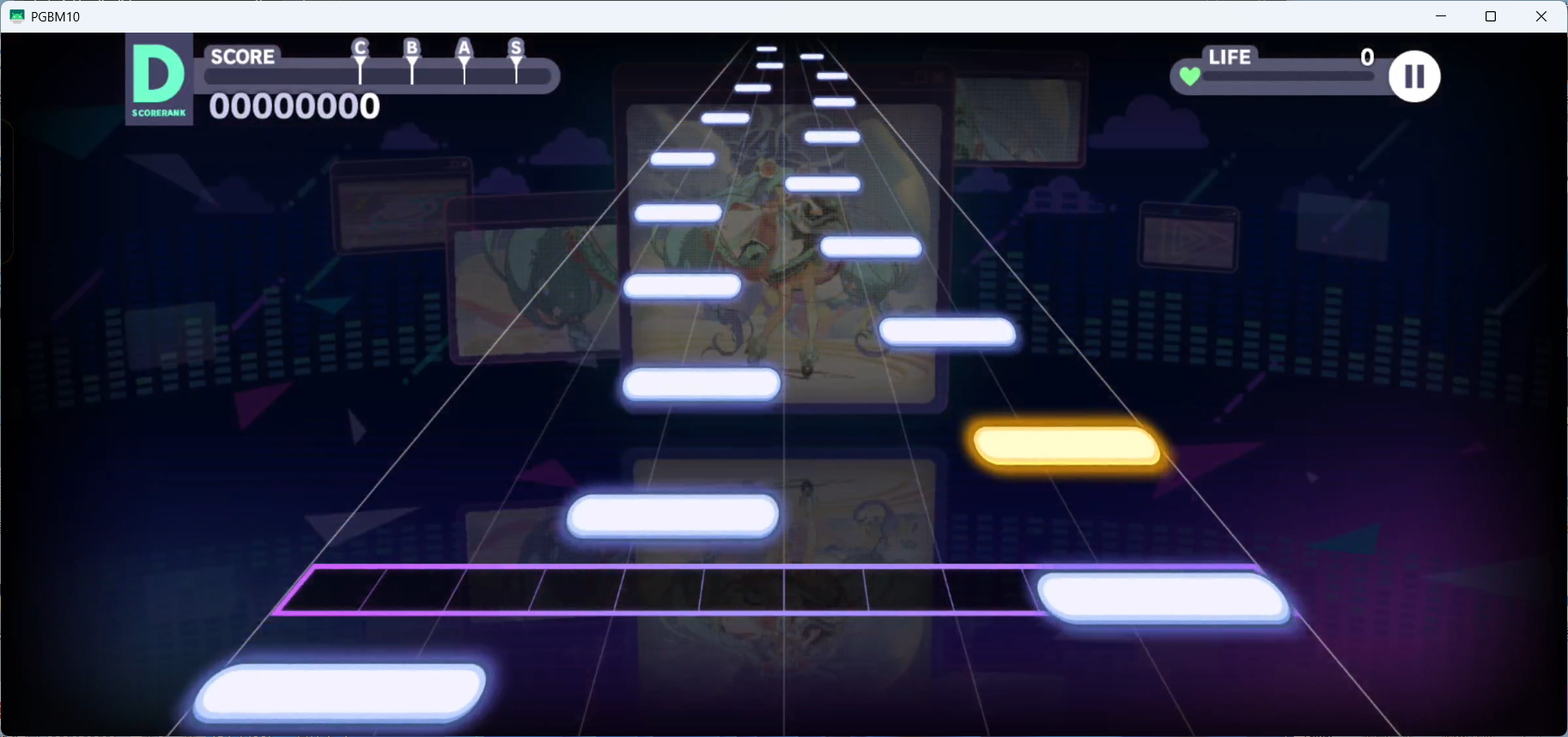tap: (192, 664, 487, 722), (1032, 572, 1292, 625), (563, 492, 781, 540), (975, 427, 1163, 465), (622, 367, 780, 402), (879, 316, 1016, 346), (623, 273, 742, 299), (818, 235, 923, 260), (634, 203, 722, 224), (785, 175, 860, 193), (649, 152, 715, 166), (805, 130, 861, 144), (701, 112, 750, 124), (734, 83, 771, 92), (816, 72, 848, 81), (756, 62, 784, 69), (799, 53, 823, 60), (756, 46, 777, 51)
